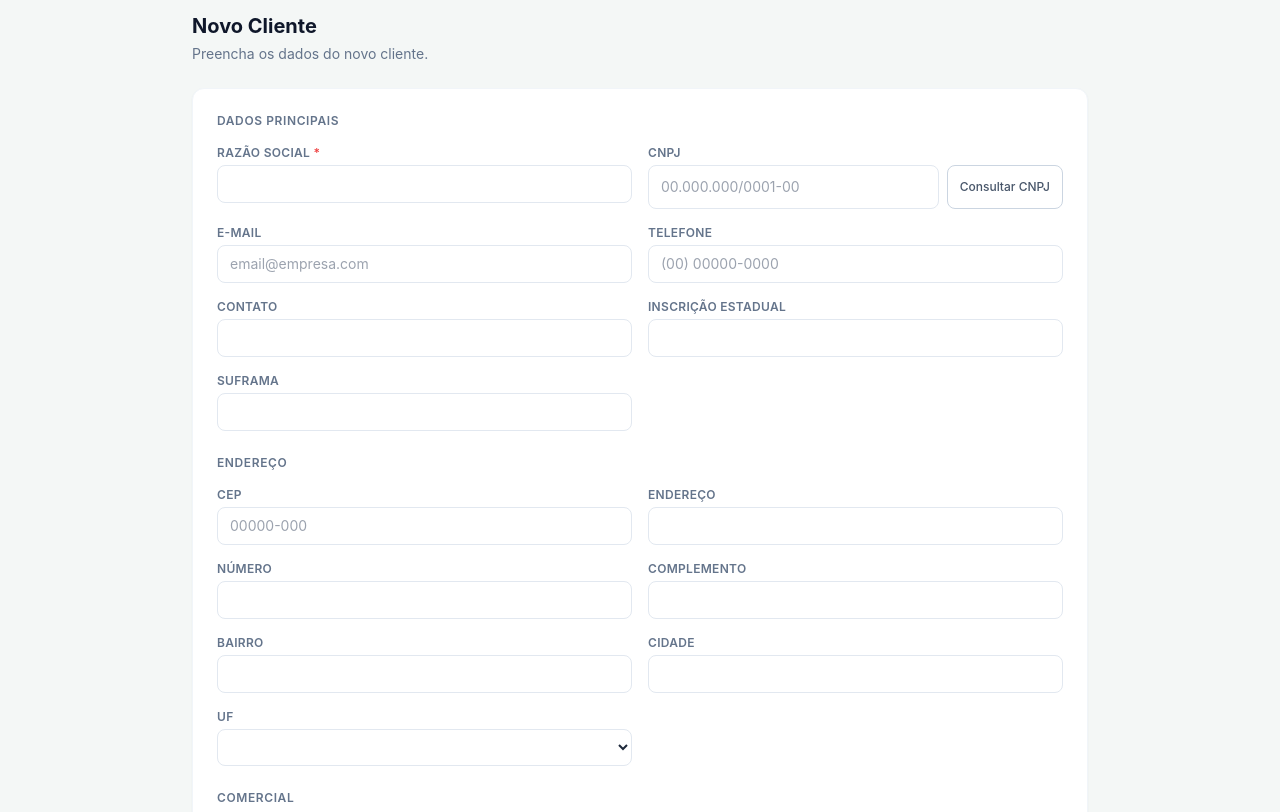
Test: ClienteForm — disponibilidade do CNPJ › ignora resposta de disponibilidade após usuário trocar CNPJ
This screenshot has width=1280, height=812.
Type "12345678000190" into the field labelled "CNPJ" at (793, 187), box top-left (648, 165), bottom-right (939, 209)
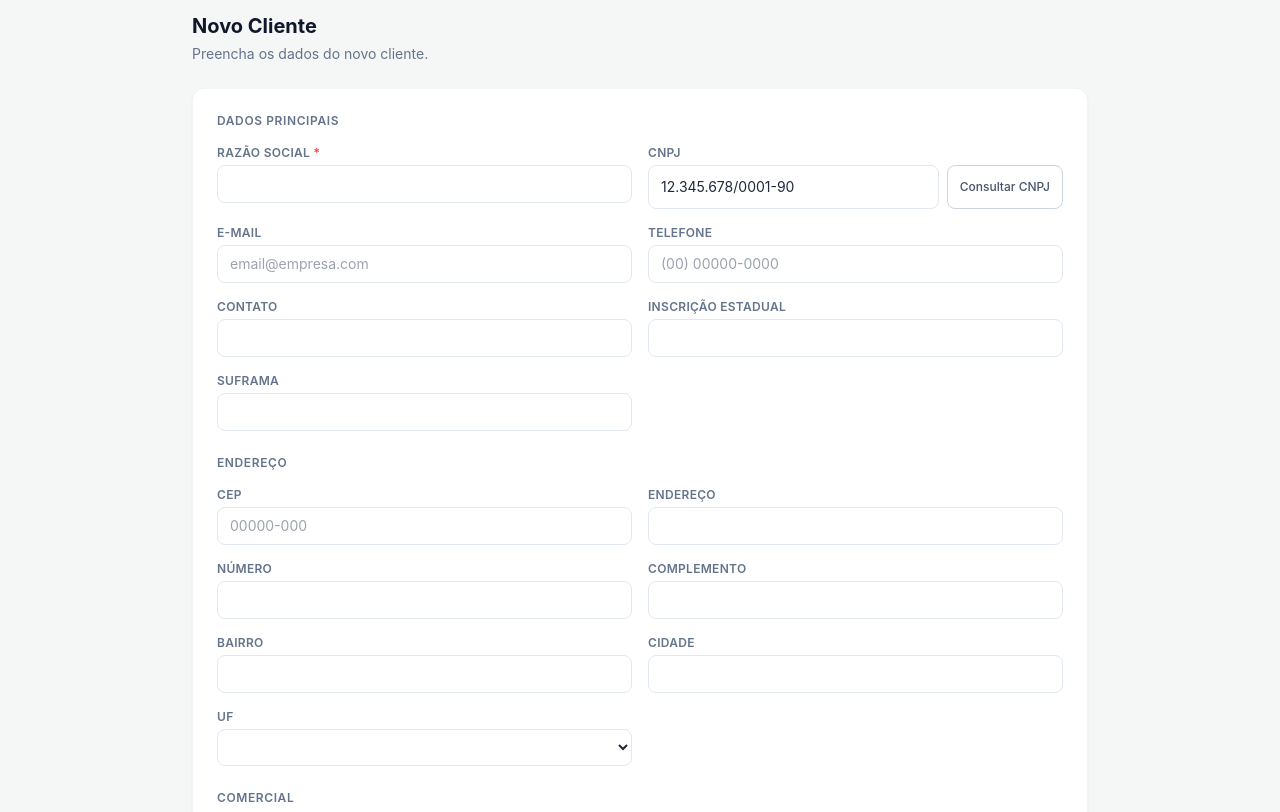
Replace the text in the field labelled "CNPJ" with "98765432000100" at (793, 187), box top-left (648, 165), bottom-right (939, 209)
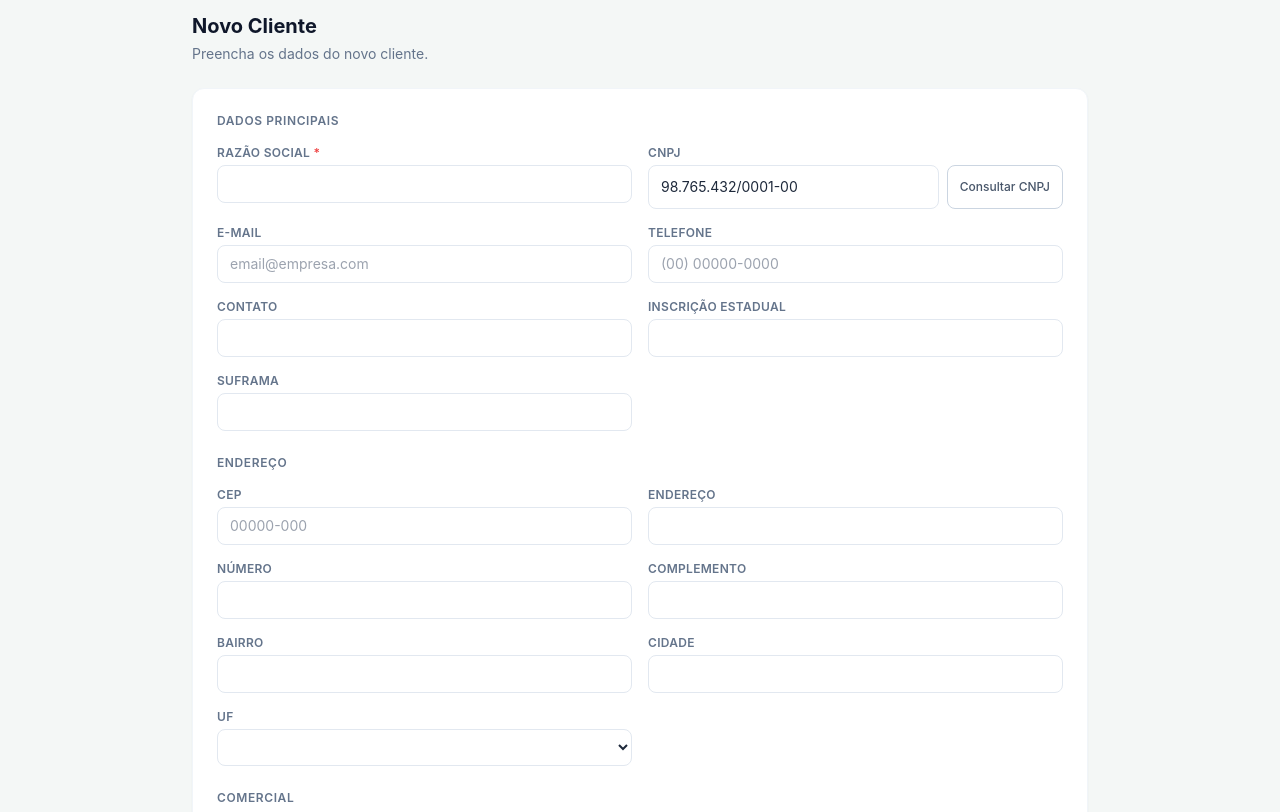
Now the field labelled "CNPJ" holds "98.765.432/0001-00", box top-left (648, 165), bottom-right (939, 209)
